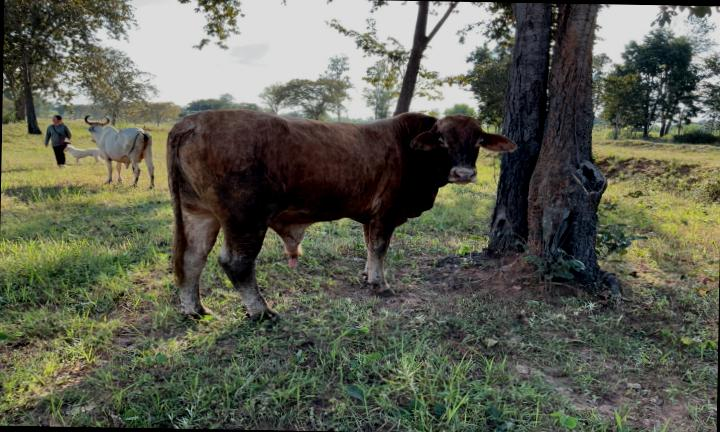Charolais: (167, 110, 516, 317)
